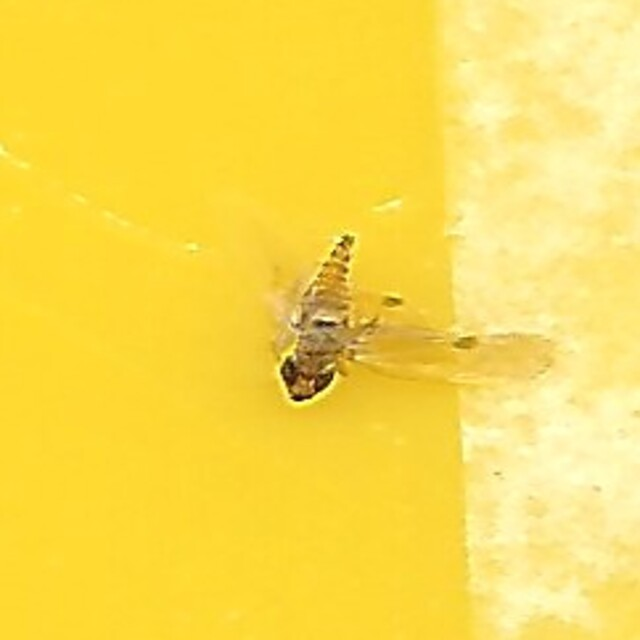Hemiptera: (264, 229, 376, 411)
